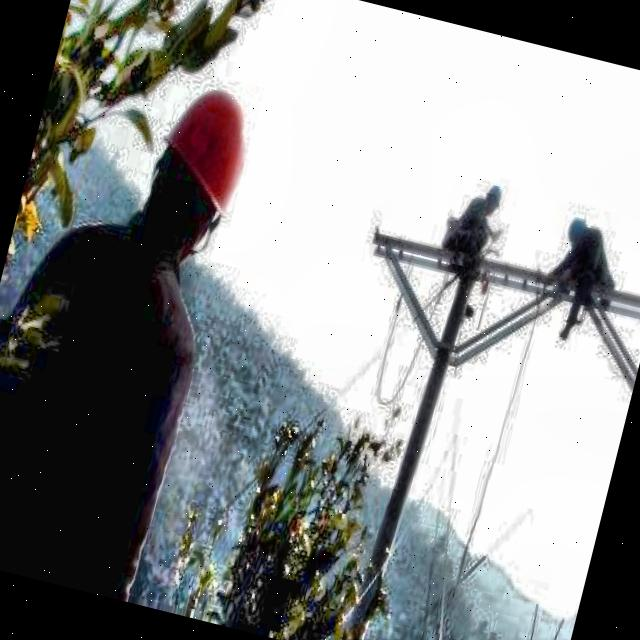helmet: (122, 63, 269, 284), (560, 210, 595, 254), (478, 179, 508, 223)
